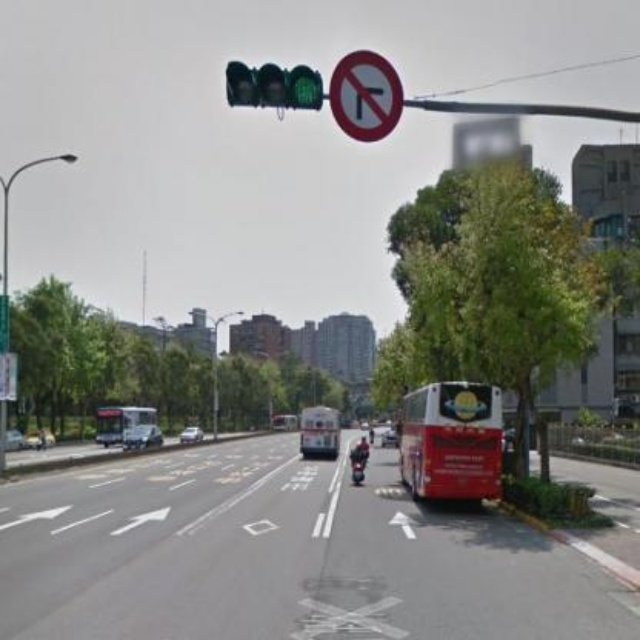Đèn xanh: (224, 57, 325, 108)
